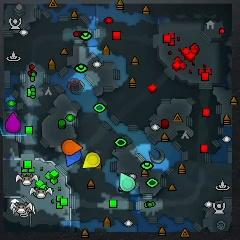p1: (65, 149, 82, 167)
p2: (119, 172, 134, 191)
p3: (5, 113, 21, 133)
p4: (83, 152, 100, 168)
p5: (62, 140, 82, 155)
